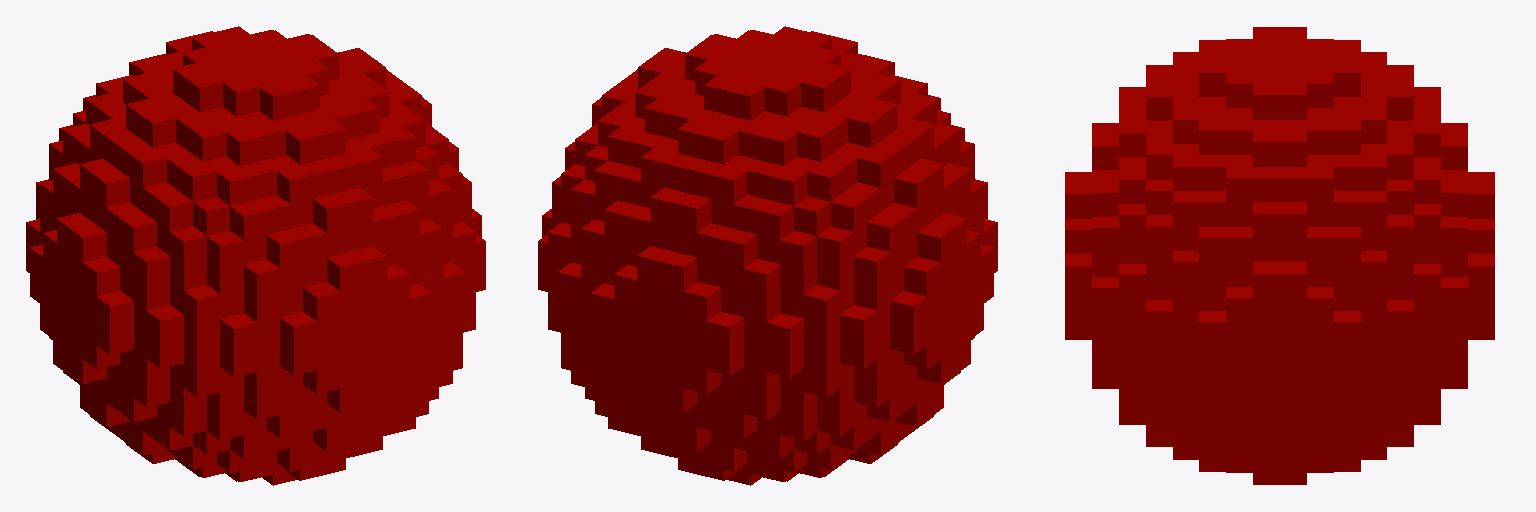
The picture shows the model from 3 angles: view 1: azimuth 30°, elevation 25°; view 2: azimuth 150°, elevation 25°; view 3: azimuth 270°, elevation 25°; orthographic projection.
Visible parts, largest first — view 1: object 1; view 2: object 1; view 3: object 1.
Part boxes in pixels (x1,y1,x2,y2): object 1: (26,26,485,485); object 1: (538,26,997,485); object 1: (1065,27,1494,484).
Bounding box in the file's own units: 1.6 × 1.6 × 1.6.
1 materials, 1 textured.